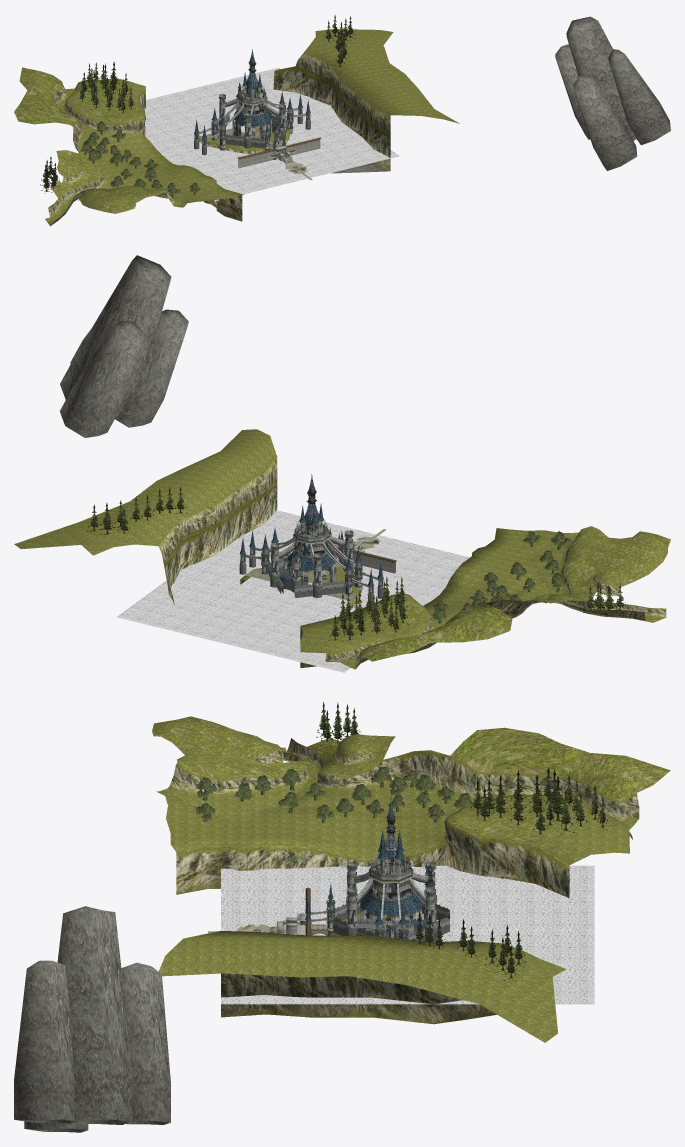
File: Castle_0.fbx
3 views of the same model, one above another, from view 1: azimuth 30°, elevation 25°; view 2: azimuth 150°, elevation 25°; view 3: azimuth 270°, elevation 25° (orthographic). The views are drawn at different scales.
Parts seen in each view (by area): view 1: Shape 16, Shape 18, Shape 14, Shape 17, Shape 12, Shape 13, Shape 15, Shape 2; view 2: Shape 16, Shape 18, Shape 14, Shape 17, Shape 12, Shape 13, Shape 15; view 3: Shape 16, Shape 17, Shape 14, Shape 18, Shape 12, Shape 13, Shape 15.
Boxes of the visible parts, left/top/right/bottom form: Shape 16: left=14, top=29, right=459, bottom=226; Shape 18: left=144, top=67, right=399, bottom=201; Shape 14: left=242, top=16, right=670, bottom=195; Shape 17: left=48, top=53, right=390, bottom=225; Shape 12: left=194, top=49, right=319, bottom=159; Shape 13: left=40, top=15, right=355, bottom=193; Shape 15: left=80, top=121, right=200, bottom=197; Shape 2: left=238, top=140, right=320, bottom=168; Shape 16: left=14, top=429, right=670, bottom=669; Shape 18: left=116, top=510, right=469, bottom=672; Shape 14: left=59, top=255, right=188, bottom=437; Shape 17: left=159, top=457, right=666, bottom=668; Shape 12: left=239, top=474, right=392, bottom=603; Shape 13: left=87, top=486, right=627, bottom=640; Shape 15: left=432, top=531, right=571, bottom=623; Shape 16: left=152, top=716, right=670, bottom=1042; Shape 17: left=170, top=738, right=639, bottom=1024; Shape 14: left=14, top=906, right=170, bottom=1132; Shape 18: left=221, top=865, right=594, bottom=1004; Shape 12: left=305, top=796, right=449, bottom=942; Shape 13: left=316, top=702, right=608, bottom=981; Shape 15: left=195, top=767, right=472, bottom=823.
Bounding box in the file's own units: 1.87e+07 × 4774255 × 1.26e+07.
Materials: 19 (19 with a texture image).
